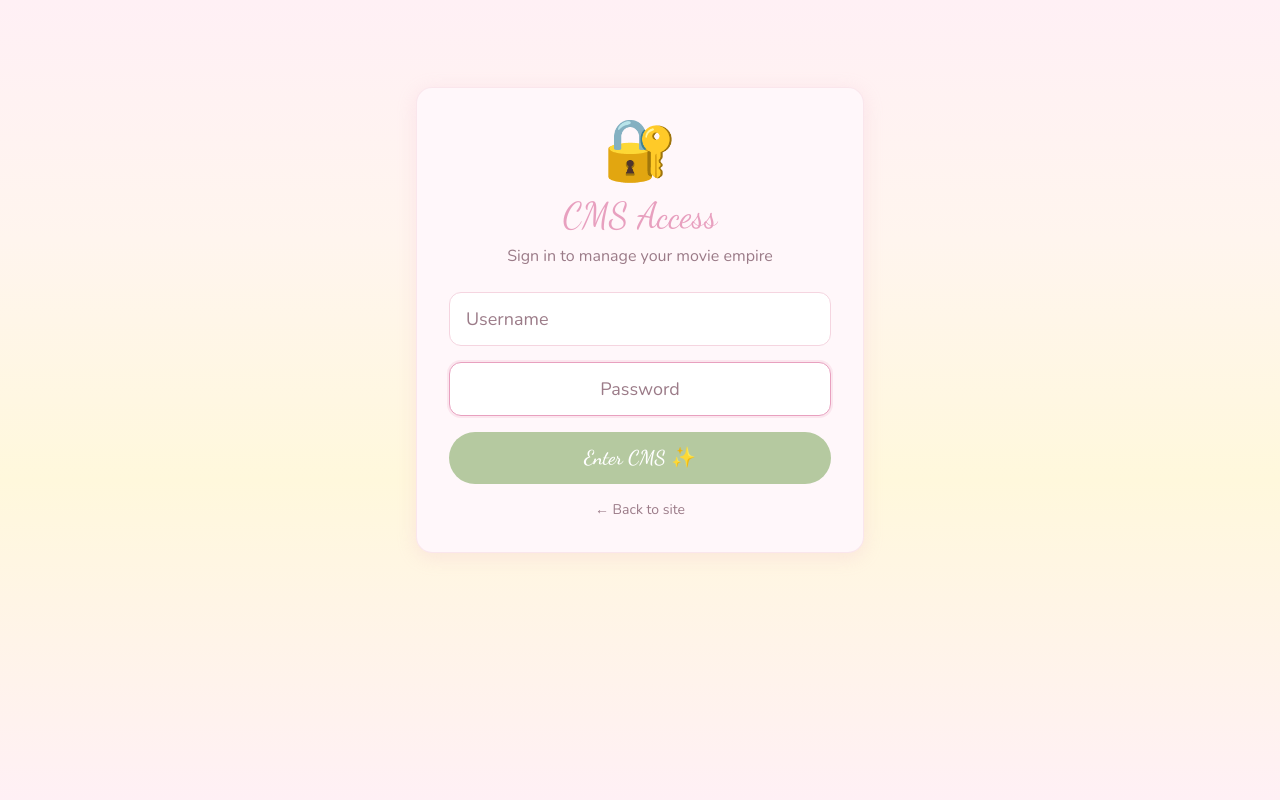
Authentication Integration › Admin Page › shows error on wrong credentials
In the field with placeholder "Username": (640, 319) [449,292,831,346], type "hacker"
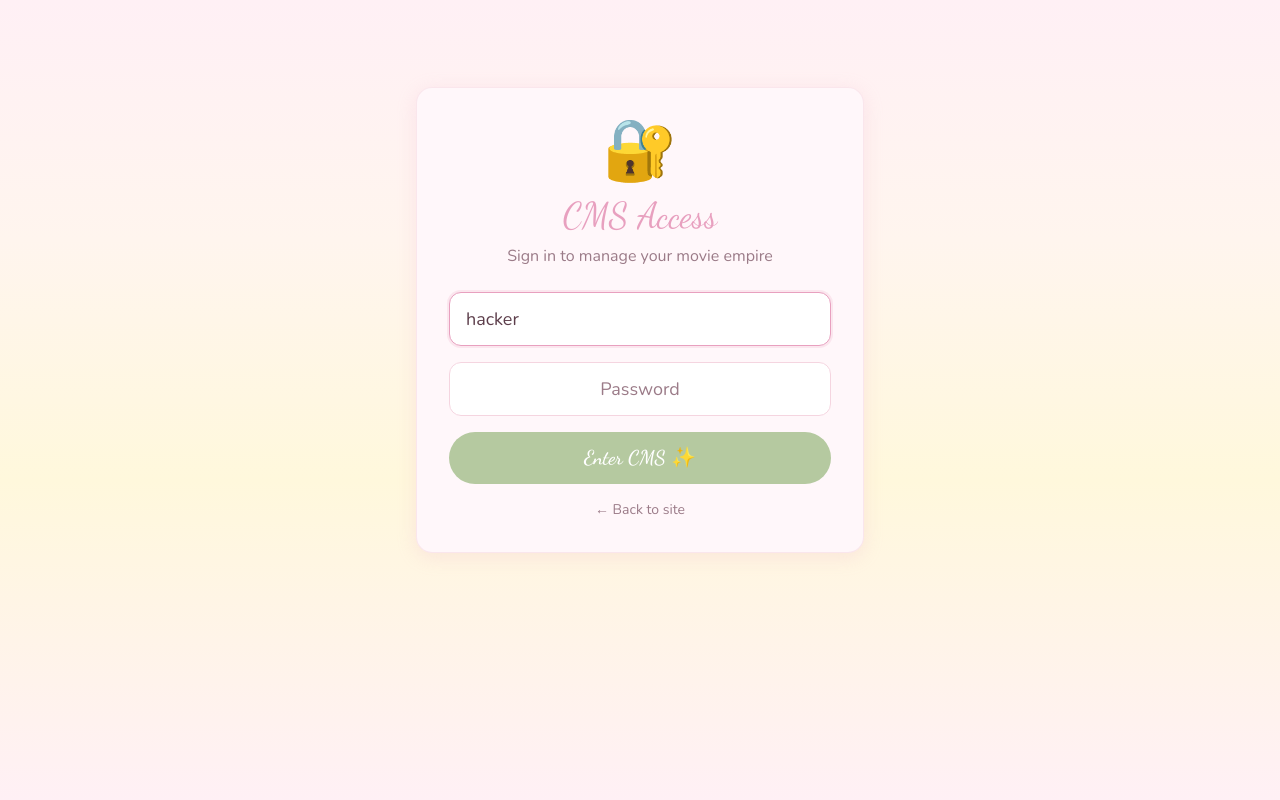
In the password field with placeholder "Password": (640, 389) [449,362,831,416], type "wrong"
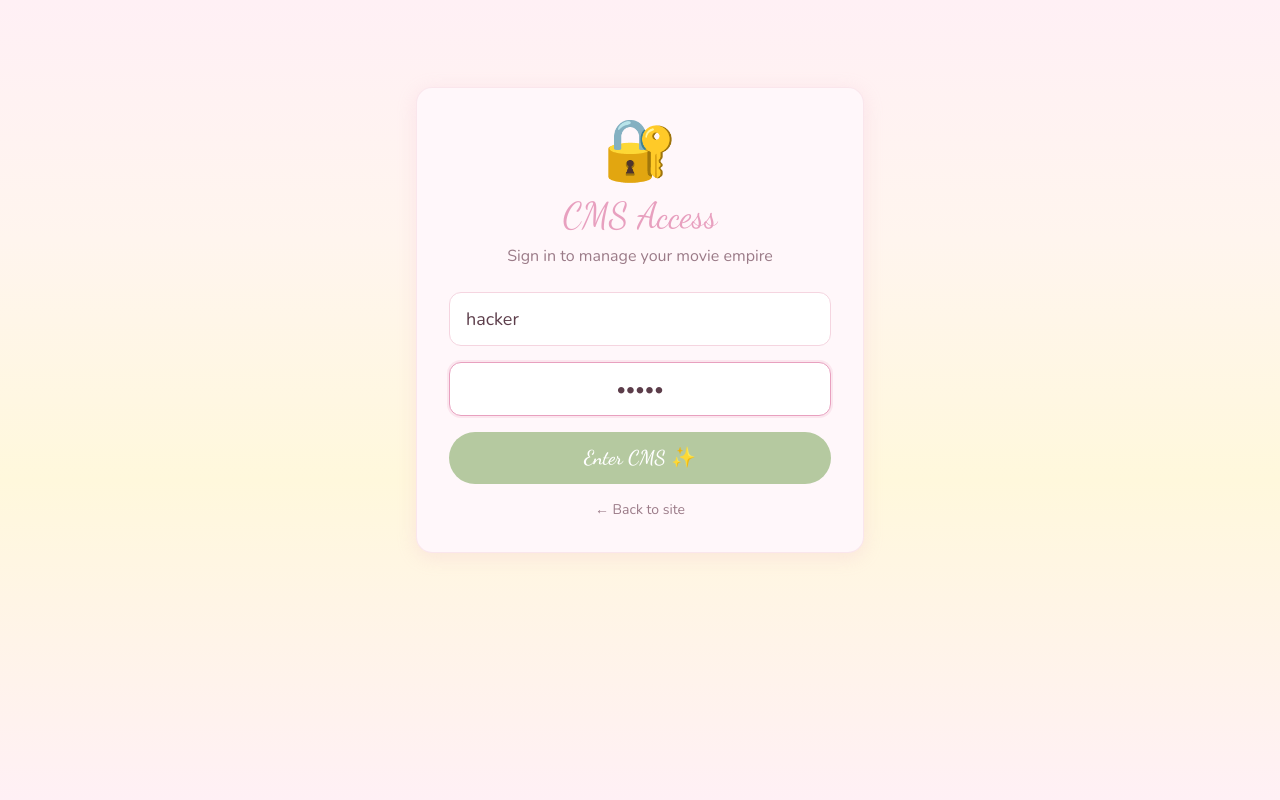
Click the button "Enter CMS ✨": (640, 458) [449,432,831,484]
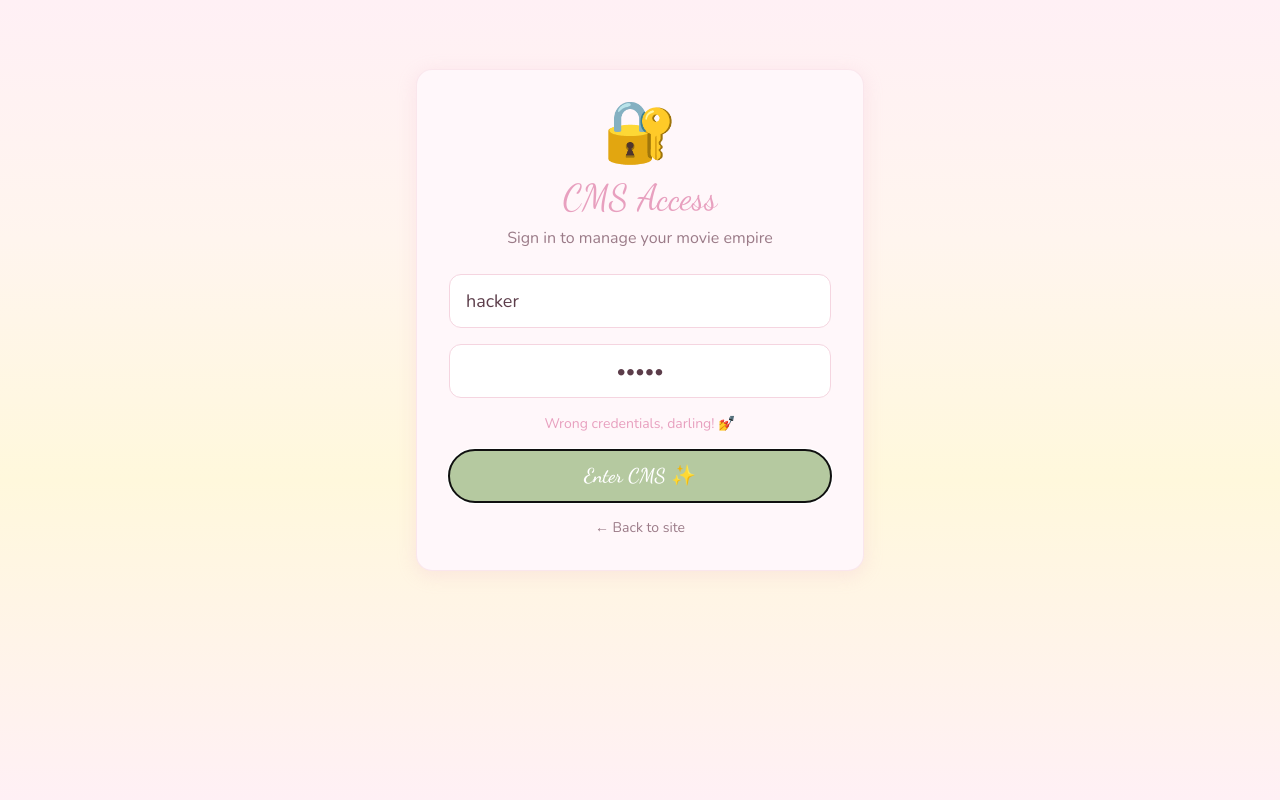
Now the text "Wrong credentials, darling! 💅" is shown, box [544,414,736,433]
